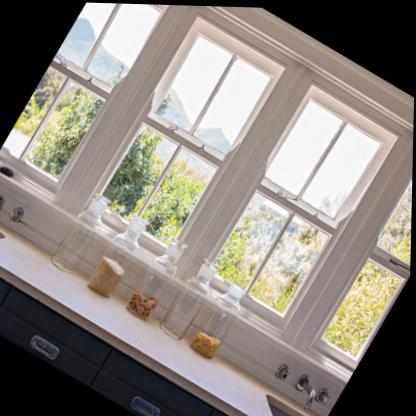Window: (87, 6, 291, 255), (199, 74, 400, 325)
